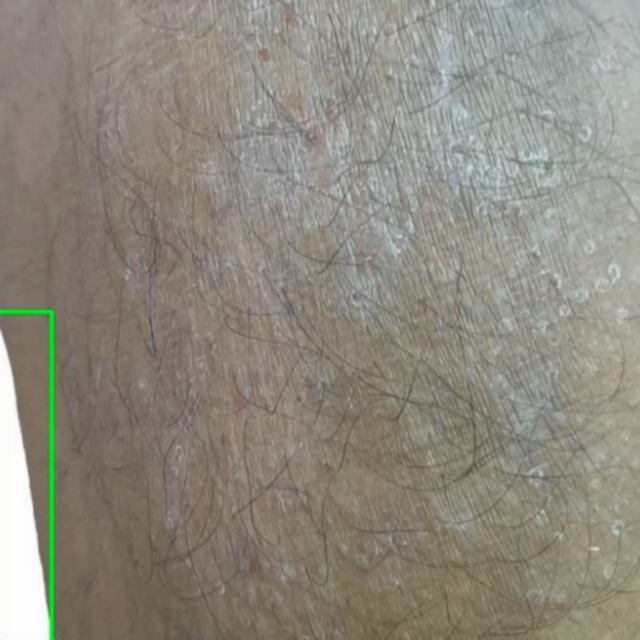Contact Dermatitis: (0, 311, 52, 639)
